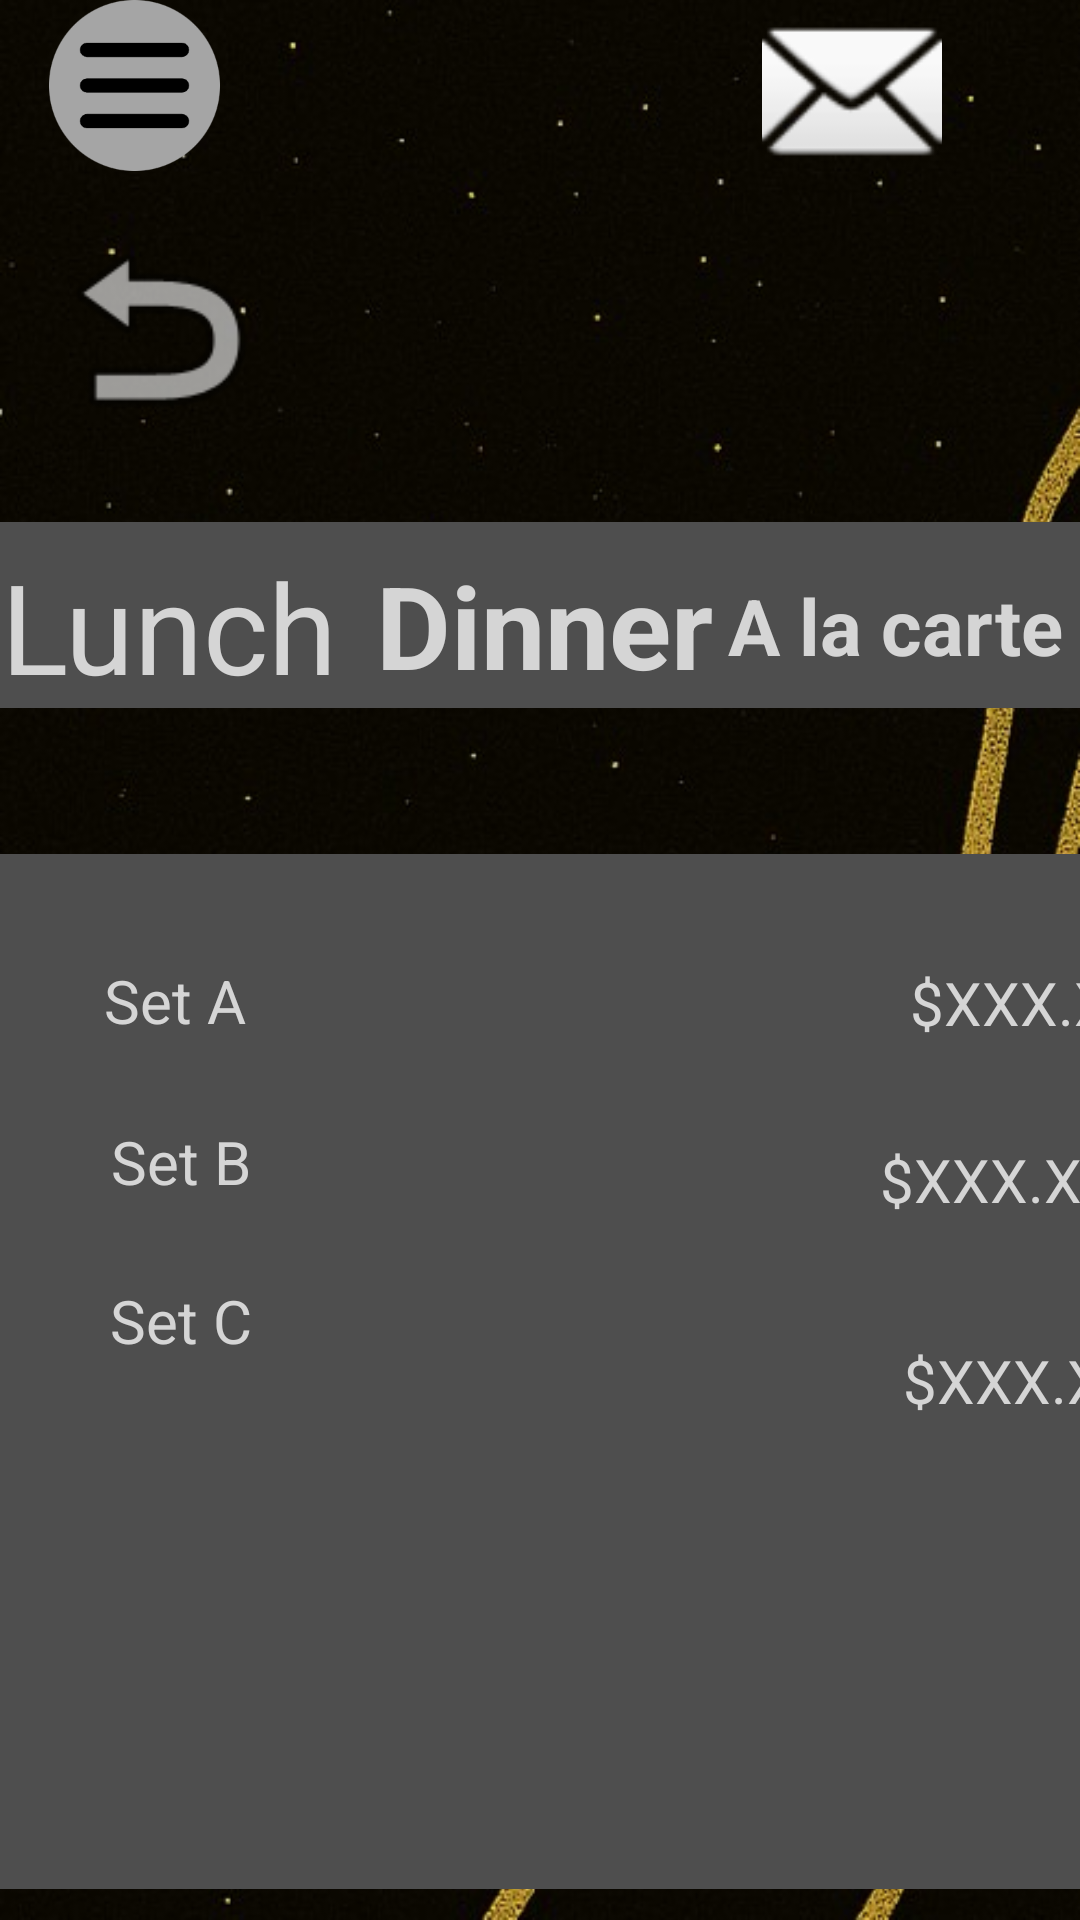

Point at icon controls on the screen. Image size 1080×1920, points as point (x, y).
burger menu: point (134, 85)
email: point (846, 103)
revert: point (164, 335)
